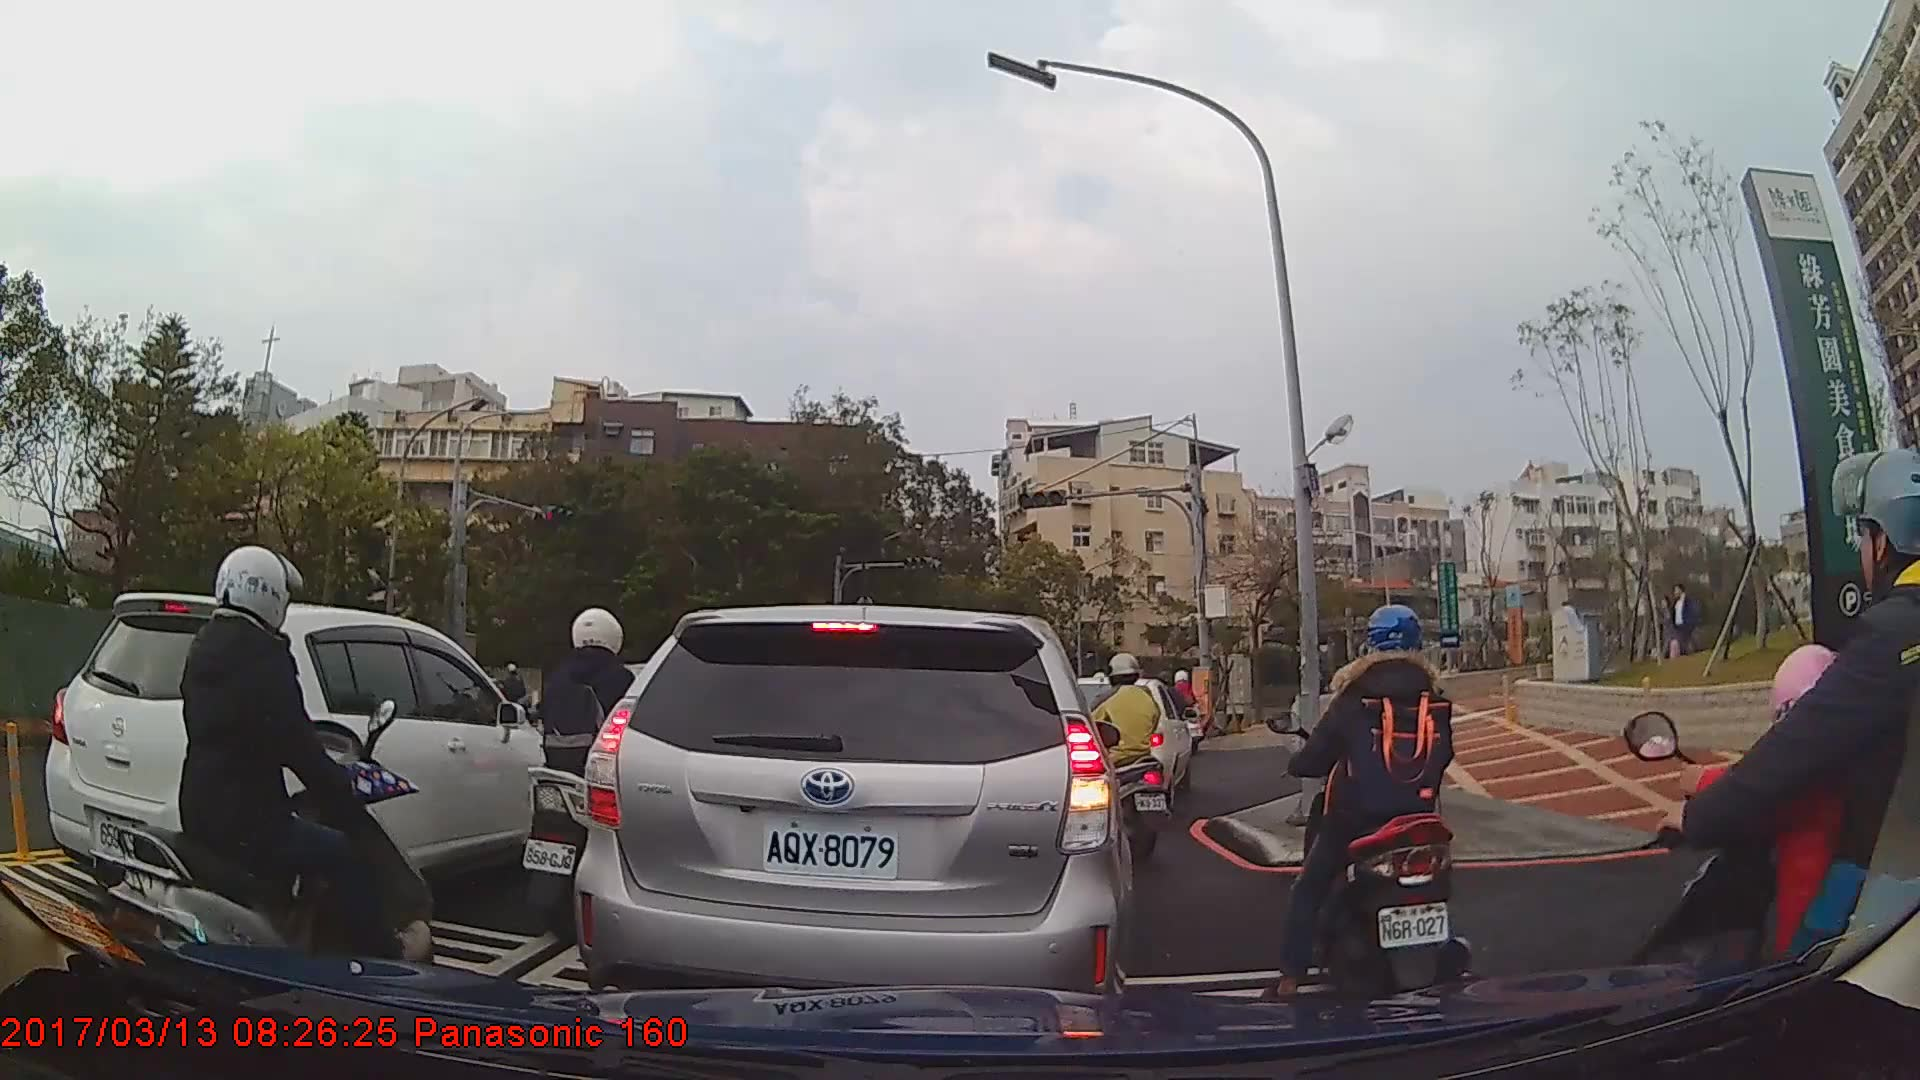pedestrian: (1643, 584, 1685, 676), (1659, 579, 1705, 663)
rider: (1621, 447, 1920, 1068), (109, 544, 443, 1001), (1256, 602, 1469, 1007), (515, 607, 683, 949), (1070, 649, 1174, 865), (1164, 665, 1208, 757)
vehicle: (571, 601, 1136, 1029), (44, 591, 569, 933)
